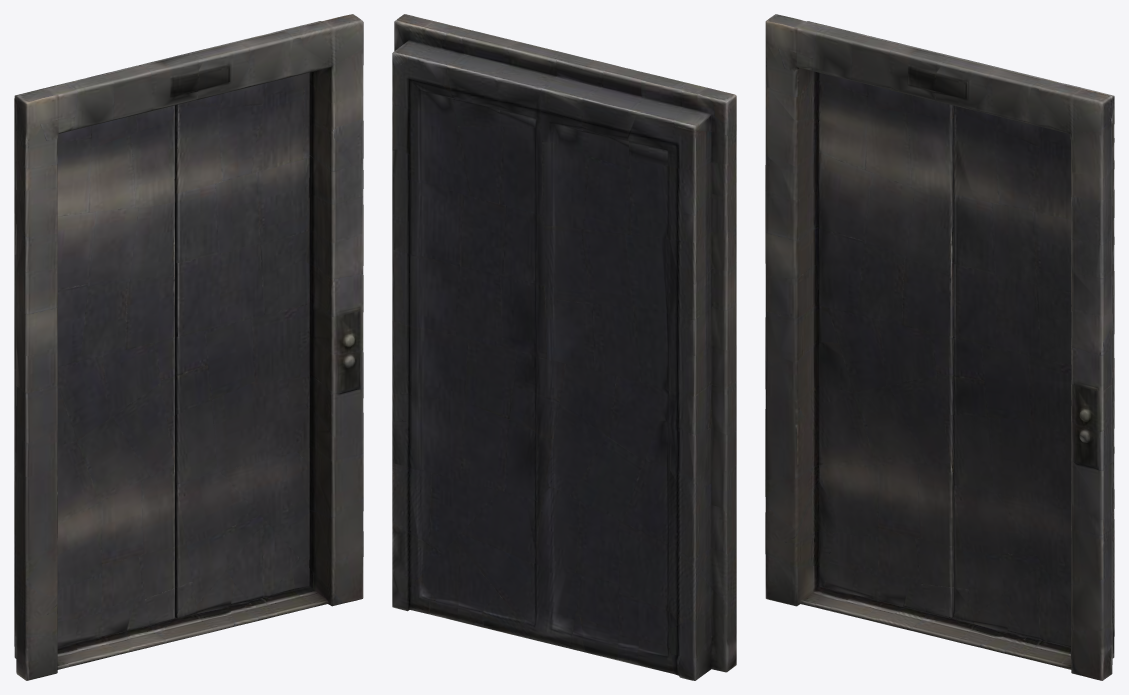
Rendered from closed_elevator.glb.
3 views of the same model, side by side, from view 1: azimuth 30°, elevation 25°; view 2: azimuth 150°, elevation 25°; view 3: azimuth 330°, elevation 25° (orthographic).
Visible parts, largest first — view 1: mesh_node; view 2: mesh_node; view 3: mesh_node.
Part boxes in pixels (<box>): mesh_node: <box>14,14,363,680</box>; mesh_node: <box>392,14,736,680</box>; mesh_node: <box>765,14,1114,680</box>.
Bounding box in the file's own units: 1.16 × 1.9 × 0.1782.
Materials: 1 (1 with a texture image).
